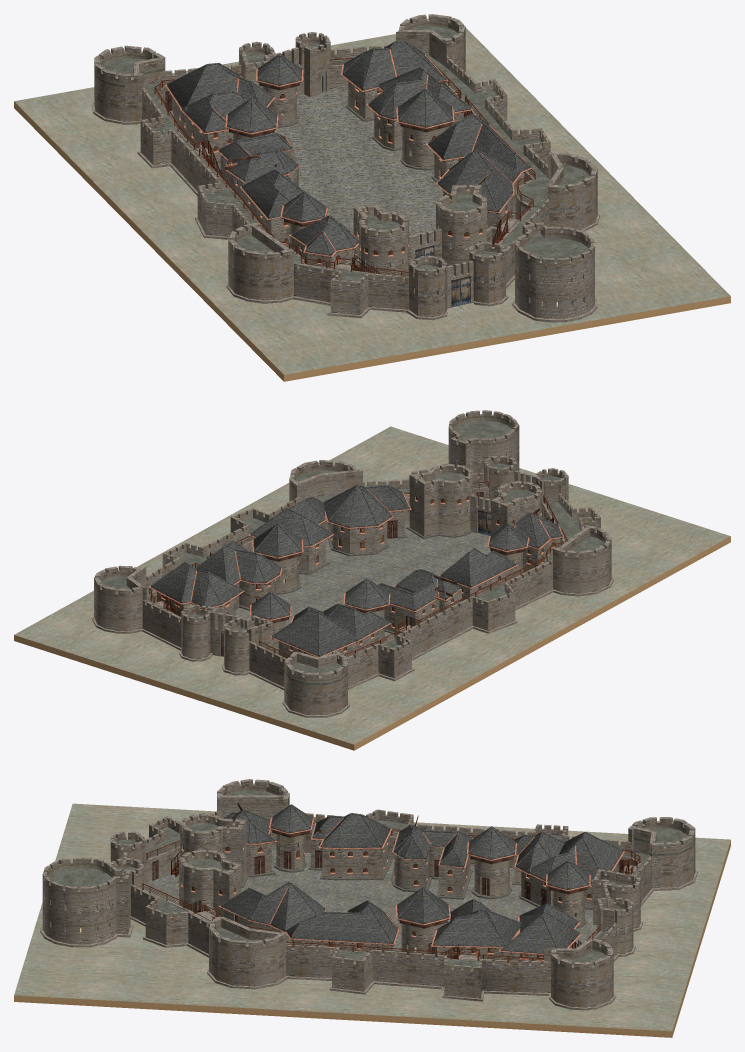
Rendered from castle.glb.
3 renders of one model, top to bottom at view 1: azimuth 30°, elevation 25°; view 2: azimuth 150°, elevation 25°; view 3: azimuth 270°, elevation 25°, orthographic. The views are drawn at different scales.
Parts seen in each view (by area): view 1: acmat_8, acmat_52, acmat_9, acmat_4, acmat_51, acmat_53, acmat_3, acmat_1, acmat_7, acmat_0, acmat_2; view 2: acmat_8, acmat_52, acmat_9, acmat_4, acmat_51, acmat_53, acmat_3, acmat_1, acmat_7, acmat_54, acmat_22; view 3: acmat_8, acmat_52, acmat_9, acmat_4, acmat_53, acmat_51, acmat_3, acmat_1, acmat_54, acmat_16, acmat_7, acmat_22 (+1 smaller).
Boxes of the visible parts, x1,y1,x2,y2 form: acmat_8: (92, 14, 599, 322); acmat_52: (14, 28, 730, 374); acmat_9: (167, 40, 530, 255); acmat_4: (168, 89, 515, 275); acmat_51: (94, 26, 589, 284); acmat_53: (14, 101, 730, 381); acmat_3: (165, 49, 532, 264); acmat_1: (154, 58, 535, 276); acmat_7: (205, 71, 530, 257); acmat_0: (415, 245, 470, 307); acmat_2: (202, 95, 507, 273); acmat_8: (92, 410, 613, 717); acmat_52: (14, 426, 730, 744); acmat_9: (151, 484, 562, 656); acmat_4: (236, 520, 490, 643); acmat_51: (101, 420, 604, 684); acmat_53: (14, 536, 730, 750); acmat_3: (149, 488, 564, 657); acmat_1: (149, 481, 567, 657); acmat_7: (151, 508, 562, 655); acmat_54: (236, 526, 490, 654); acmat_22: (162, 496, 555, 653); acmat_8: (40, 779, 697, 1010); acmat_52: (14, 803, 730, 1031); acmat_9: (221, 804, 623, 953); acmat_4: (144, 850, 597, 954); acmat_53: (14, 840, 730, 1037); acmat_51: (49, 790, 695, 970); acmat_3: (180, 814, 625, 961); acmat_1: (142, 823, 640, 963); acmat_54: (177, 855, 592, 951); acmat_16: (152, 841, 625, 956); acmat_7: (221, 802, 588, 955); acmat_22: (183, 829, 591, 959).
Size of the model in its own units: 56.82 by 8.52 by 75.56.
27 materials, 23 textured.
